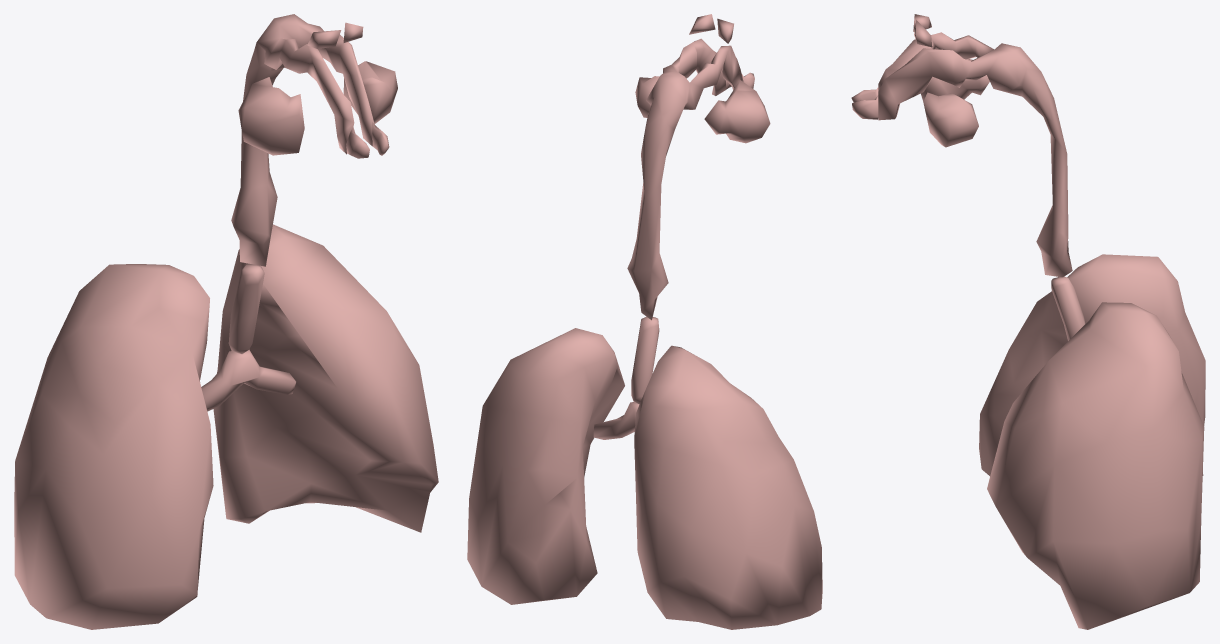
The model's file is pediatric_child_5y_male.respiratory.LOD3.glb.
3 renders of one model, left to right at view 1: azimuth 30°, elevation 25°; view 2: azimuth 150°, elevation 25°; view 3: azimuth 270°, elevation 25°, orthographic. The views are drawn at different scales.
Visible parts, largest first — view 1: PEDIATRIC.CHILD_5Y.MALE.RESPIRATORY.LUNG.R, PEDIATRIC.CHILD_5Y.MALE.RESPIRATORY.LUNG.L, PEDIATRIC.CHILD_5Y.MALE.RESPIRATORY.ET2, PEDIATRIC.CHILD_5Y.MALE.RESPIRATORY.BB1, PEDIATRIC.CHILD_5Y.MALE.RESPIRATORY.TRACHEA, PEDIATRIC.CHILD_5Y.MALE.RESPIRATORY.ET1; view 2: PEDIATRIC.CHILD_5Y.MALE.RESPIRATORY.LUNG.R, PEDIATRIC.CHILD_5Y.MALE.RESPIRATORY.LUNG.L, PEDIATRIC.CHILD_5Y.MALE.RESPIRATORY.ET2, PEDIATRIC.CHILD_5Y.MALE.RESPIRATORY.TRACHEA, PEDIATRIC.CHILD_5Y.MALE.RESPIRATORY.BB1; view 3: PEDIATRIC.CHILD_5Y.MALE.RESPIRATORY.LUNG.L, PEDIATRIC.CHILD_5Y.MALE.RESPIRATORY.ET2, PEDIATRIC.CHILD_5Y.MALE.RESPIRATORY.LUNG.R, PEDIATRIC.CHILD_5Y.MALE.RESPIRATORY.TRACHEA, PEDIATRIC.CHILD_5Y.MALE.RESPIRATORY.ET1.
Boxes of the visible parts, <box> form: PEDIATRIC.CHILD_5Y.MALE.RESPIRATORY.LUNG.R: <box>14,264,213,629</box>; PEDIATRIC.CHILD_5Y.MALE.RESPIRATORY.LUNG.L: <box>213,224,438,532</box>; PEDIATRIC.CHILD_5Y.MALE.RESPIRATORY.ET2: <box>231,14,397,266</box>; PEDIATRIC.CHILD_5Y.MALE.RESPIRATORY.BB1: <box>201,349,295,411</box>; PEDIATRIC.CHILD_5Y.MALE.RESPIRATORY.TRACHEA: <box>228,264,264,353</box>; PEDIATRIC.CHILD_5Y.MALE.RESPIRATORY.ET1: <box>346,122,389,158</box>; PEDIATRIC.CHILD_5Y.MALE.RESPIRATORY.LUNG.R: <box>634,345,822,629</box>; PEDIATRIC.CHILD_5Y.MALE.RESPIRATORY.LUNG.L: <box>467,328,624,604</box>; PEDIATRIC.CHILD_5Y.MALE.RESPIRATORY.ET2: <box>627,14,770,320</box>; PEDIATRIC.CHILD_5Y.MALE.RESPIRATORY.TRACHEA: <box>631,316,659,404</box>; PEDIATRIC.CHILD_5Y.MALE.RESPIRATORY.BB1: <box>593,402,639,439</box>; PEDIATRIC.CHILD_5Y.MALE.RESPIRATORY.LUNG.L: <box>987,302,1204,629</box>; PEDIATRIC.CHILD_5Y.MALE.RESPIRATORY.ET2: <box>878,14,1072,277</box>; PEDIATRIC.CHILD_5Y.MALE.RESPIRATORY.LUNG.R: <box>979,254,1205,476</box>; PEDIATRIC.CHILD_5Y.MALE.RESPIRATORY.TRACHEA: <box>1051,276,1085,340</box>; PEDIATRIC.CHILD_5Y.MALE.RESPIRATORY.ET1: <box>851,87,878,119</box>.
Size of the model in its own units: 0.1716 by 0.2597 by 0.1553.
